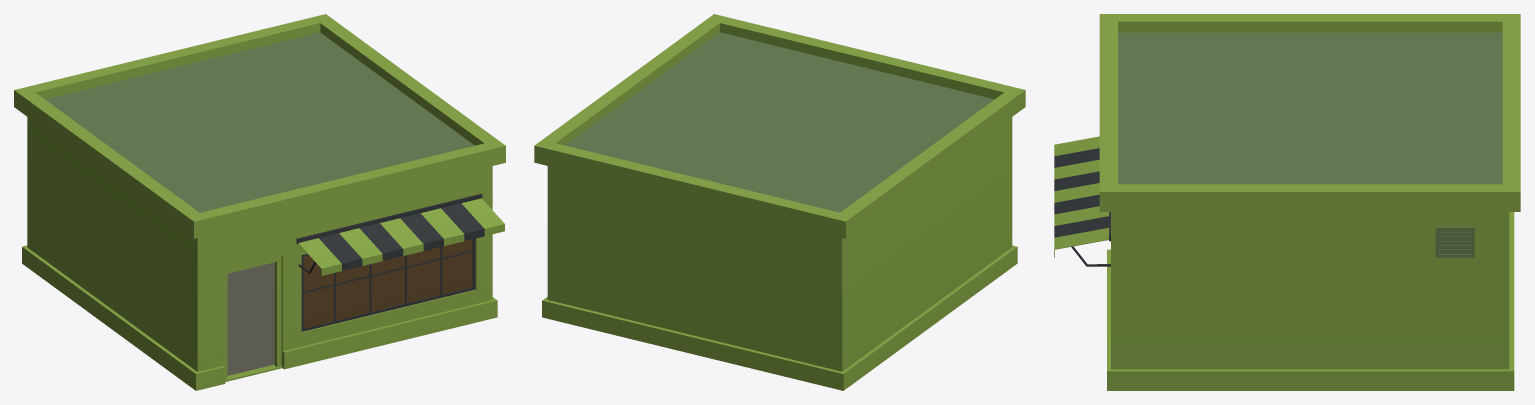
File: SmallHouse_08.fbx
3 views of the same model, side by side, from view 1: azimuth 30°, elevation 25°; view 2: azimuth 150°, elevation 25°; view 3: azimuth 270°, elevation 25° (orthographic). The views are drawn at different scales.
Visible parts, largest first — view 1: SmallHouse_08; view 2: SmallHouse_08; view 3: SmallHouse_08.
Part boxes in pixels (x1,y1,x2,y2): SmallHouse_08: [14, 14, 505, 390]; SmallHouse_08: [534, 14, 1025, 390]; SmallHouse_08: [1054, 14, 1520, 390].
Size of the model in its own units: 6.34 by 3.36 by 7.03.
